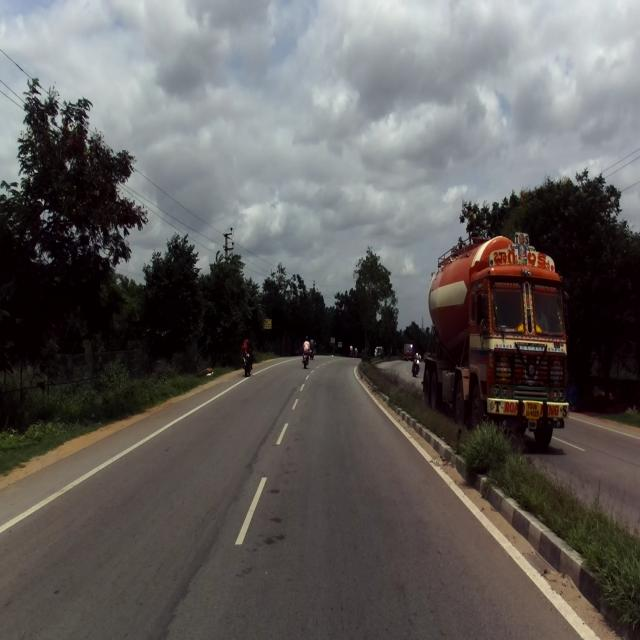truck: (420, 231, 569, 450)
